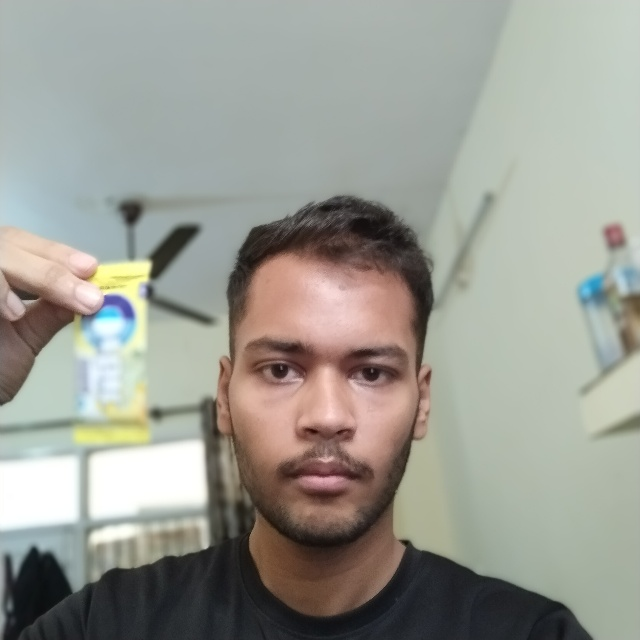Orbit: (67, 257, 153, 450)
